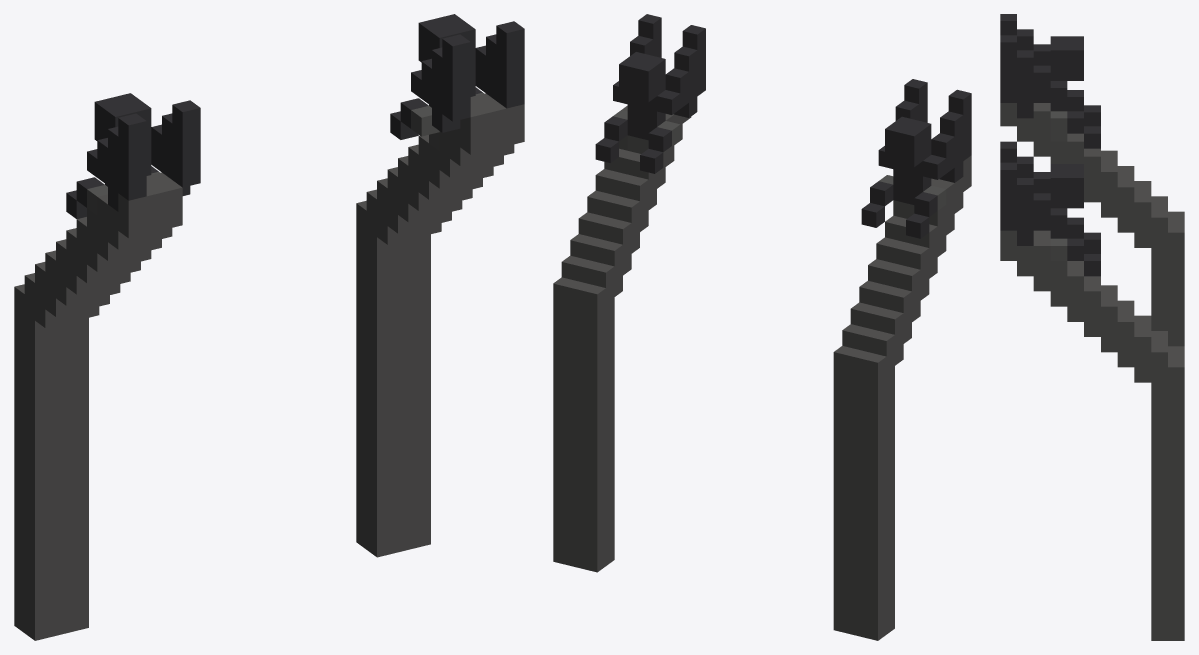
File: church-77-gargoylepillar.obj
3 views of the same model, side by side, from view 1: azimuth 30°, elevation 25°; view 2: azimuth 150°, elevation 25°; view 3: azimuth 270°, elevation 25° (orthographic). The views are drawn at different scales.
Visible parts, largest first — view 1: gargoylepillar; view 2: gargoylepillar; view 3: gargoylepillar.
Boxes of the visible parts, bbox=[...] form: gargoylepillar: bbox=[14, 14, 524, 640]; gargoylepillar: bbox=[553, 14, 971, 640]; gargoylepillar: bbox=[1000, 14, 1184, 640].
Bounding box in the file's own units: 2.2 × 3.1 × 1.1.
Materials: 1 (1 with a texture image).
